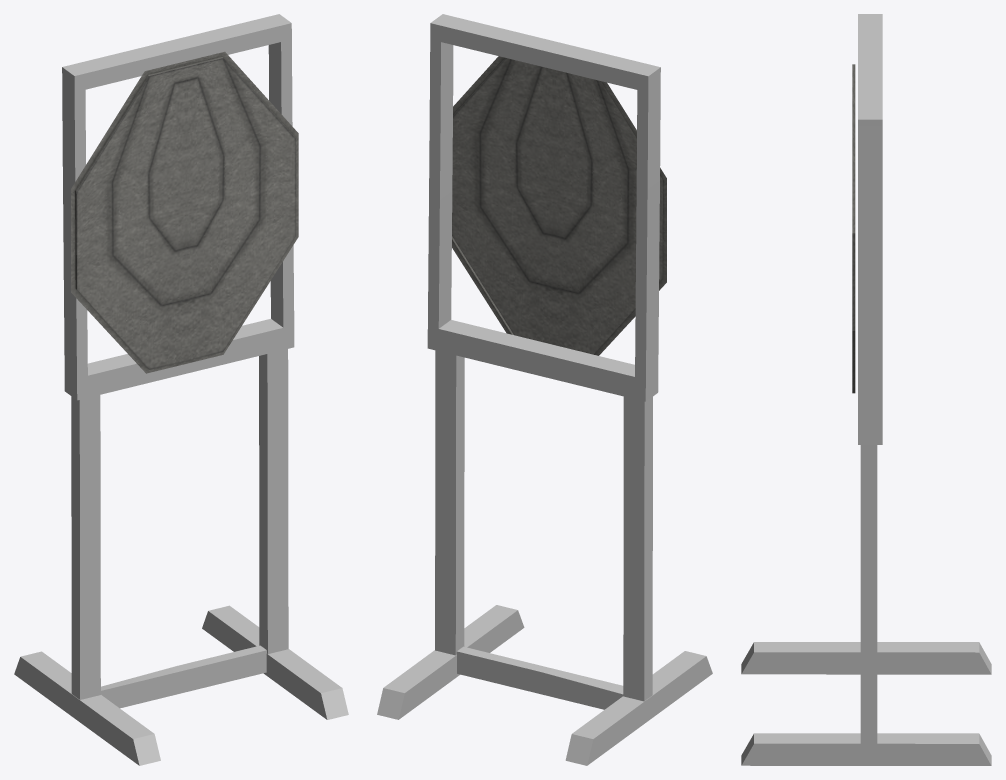
The model's file is IPSC 纸靶-白色01.FBX.
3 renders of one model, left to right at view 1: azimuth 30°, elevation 25°; view 2: azimuth 150°, elevation 25°; view 3: azimuth 270°, elevation 25°, orthographic.
Parts seen in each view (by area): view 1: Object28, Box03SS13; view 2: Box03SS13, Object28; view 3: Box03SS13, Object28.
Part boxes in pixels (<box>): Object28: <box>71,51,298,373</box>; Box03SS13: <box>14,14,348,765</box>; Box03SS13: <box>377,14,712,765</box>; Object28: <box>452,56,666,355</box>; Box03SS13: <box>741,14,991,765</box>; Object28: <box>852,64,855,393</box>.
Size of the model in its own units: 10.38 by 9.9 by 28.25.
